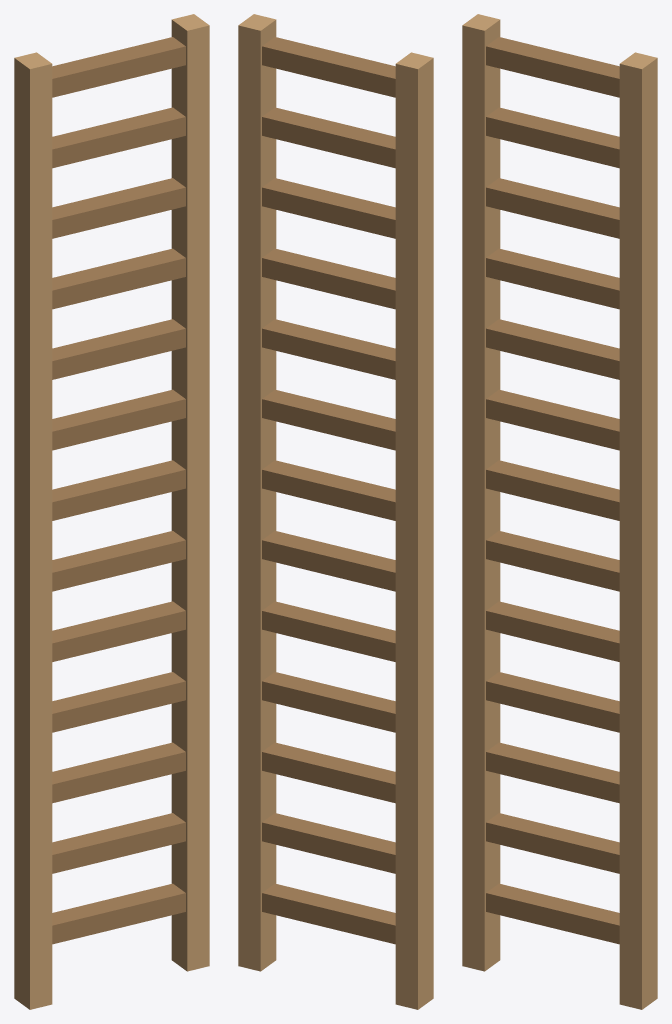
The model's file is ladder-access.glb.
3 renders of one model, left to right at view 1: azimuth 30°, elevation 25°; view 2: azimuth 150°, elevation 25°; view 3: azimuth 330°, elevation 25°, orthographic.
Parts seen in each view (by area): view 1: ladder-access; view 2: ladder-access; view 3: ladder-access.
Part boxes in pixels (bbox=[...]): ladder-access: bbox=[14, 14, 209, 1009]; ladder-access: bbox=[238, 14, 433, 1009]; ladder-access: bbox=[462, 14, 657, 1009].
Bounding box in the file's own units: 0.7998 × 4 × 0.1201.
